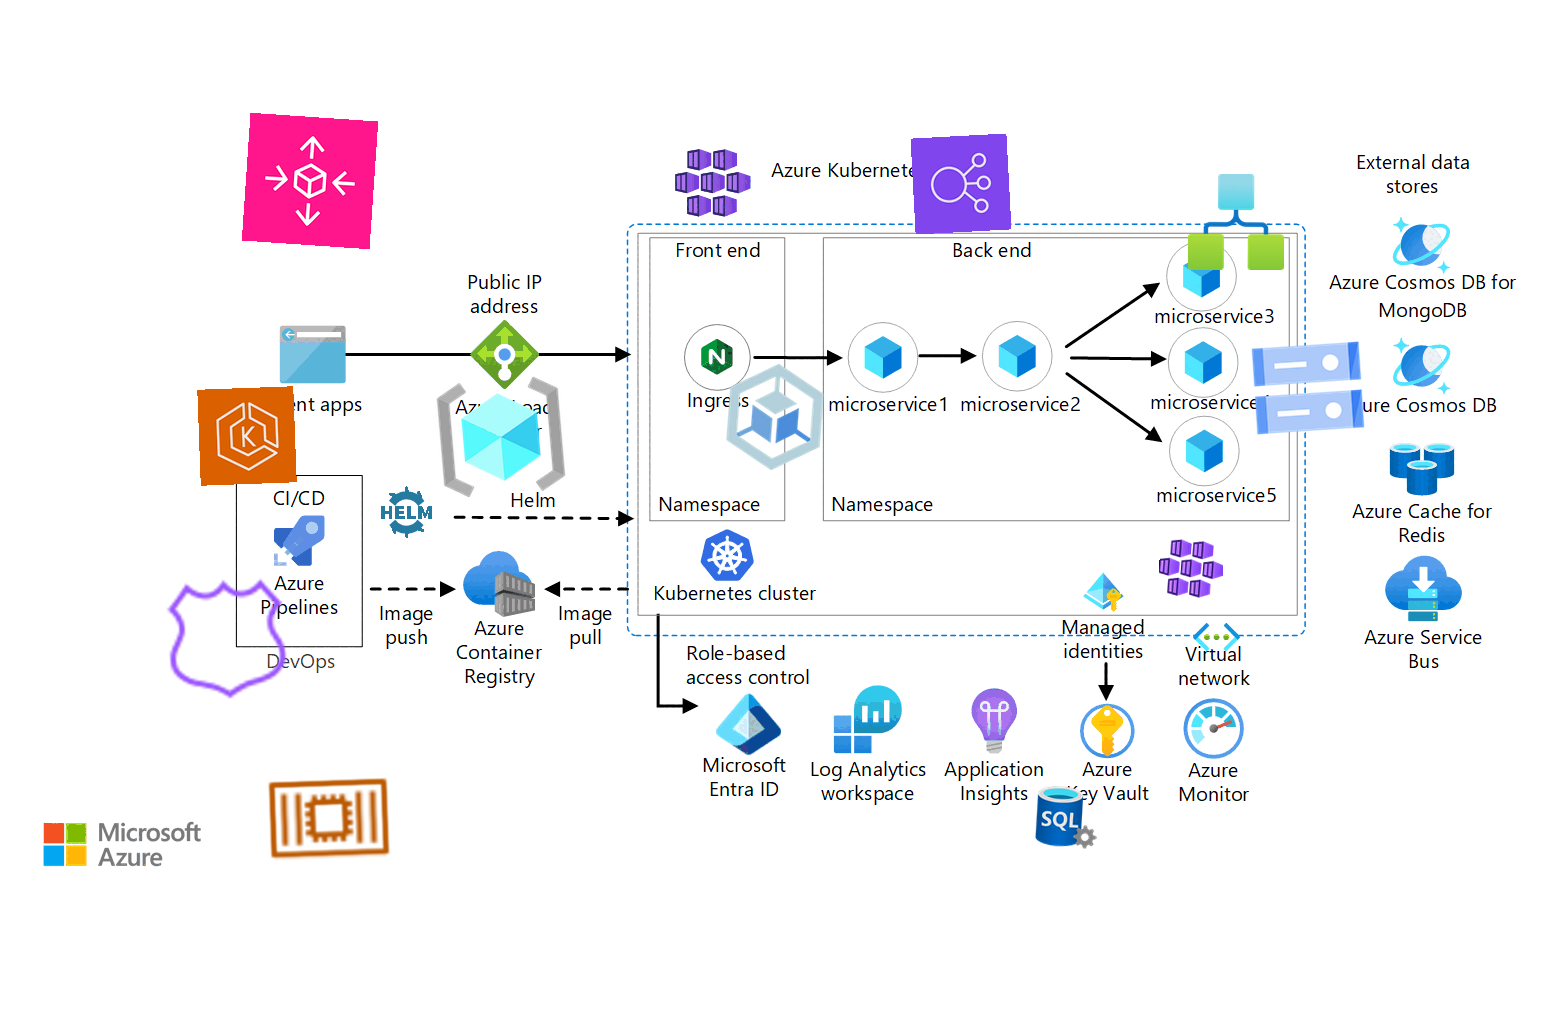aws_amazon_elastic_kubernetes_service: (197, 386, 297, 486)
aws_auto_scaling: (241, 112, 379, 250)
aws_elastic_container_service_container_2: (262, 751, 396, 885)
aws_elastic_load_balancing: (910, 133, 1012, 235)
aws_route_53_hosted_zone: (160, 571, 296, 707)
azure_kubernetes_services: (1156, 533, 1226, 603)
azure_logic_apps: (1187, 173, 1286, 271)
azure_resource_groups: (431, 367, 571, 507)
azure_sql_server: (1033, 783, 1101, 850)
gcp_cloud_storage: (1239, 319, 1377, 457)
gcp_google_kubernetes_engine: (706, 348, 844, 486)
